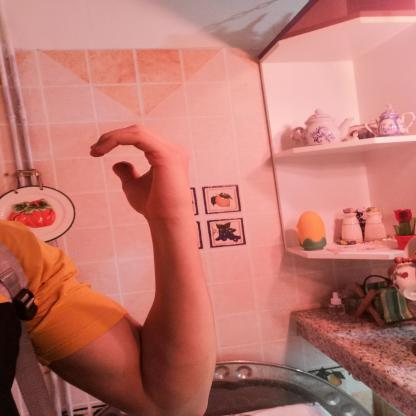JEEM: (79, 112, 208, 226)
